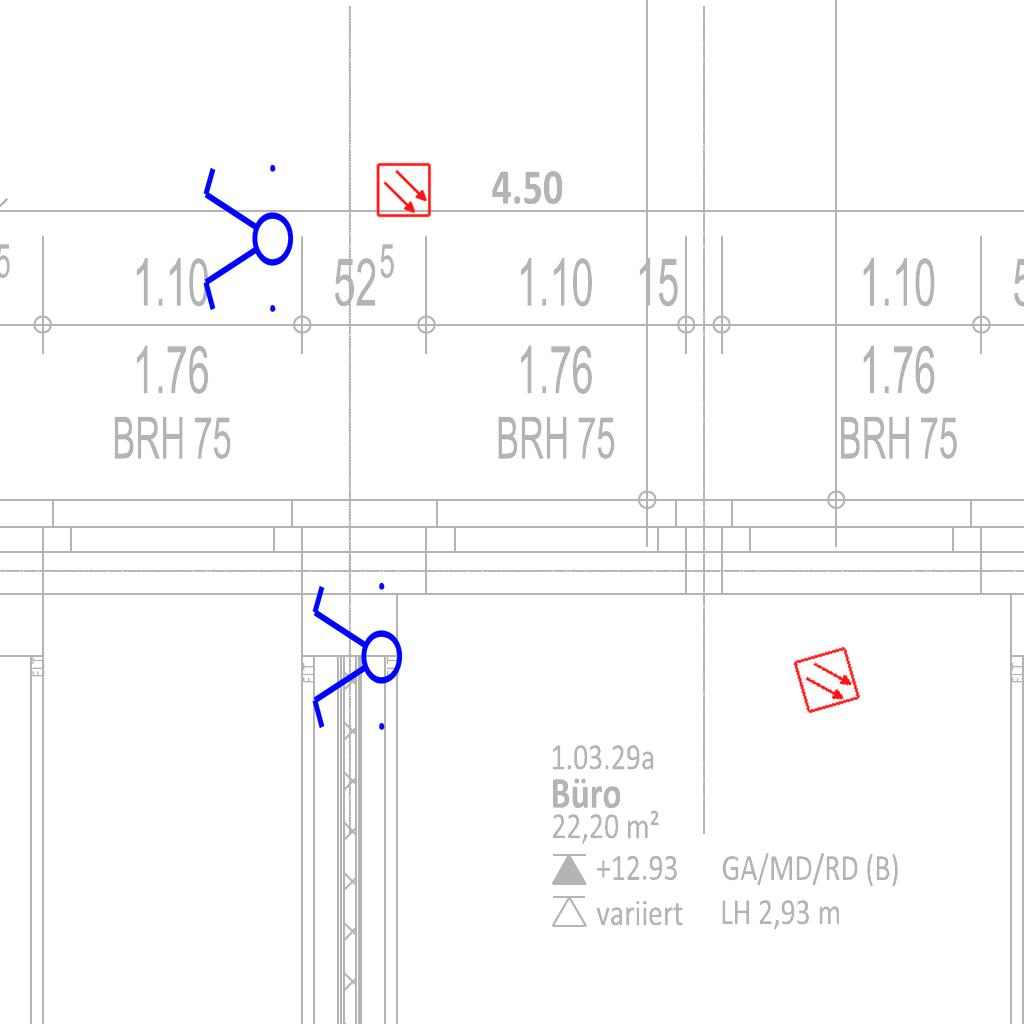RMO_Rauchmelder_optischer: (792, 645, 862, 715), (376, 162, 432, 218)
Serienschalter: (308, 574, 404, 742), (199, 156, 295, 324)
